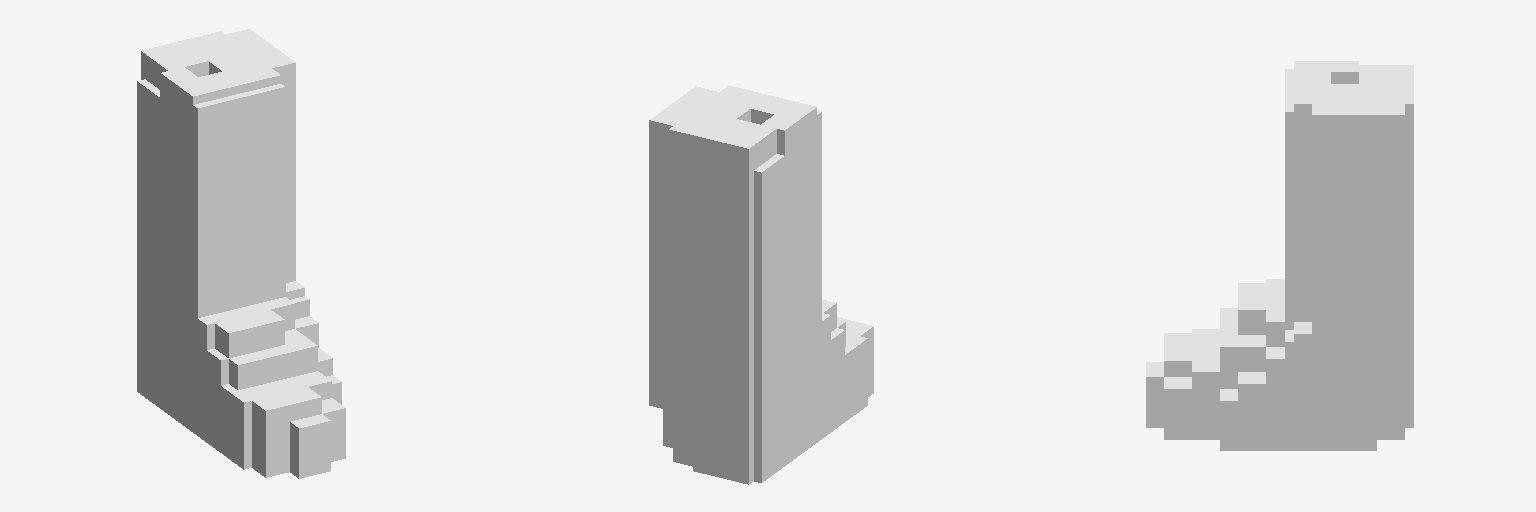
The model's file is lower_leg.obj.
3 views of the same model, side by side, from view 1: azimuth 30°, elevation 25°; view 2: azimuth 150°, elevation 25°; view 3: azimuth 270°, elevation 25° (orthographic).
Bounding box in the file's own units: 14 × 40 × 29.